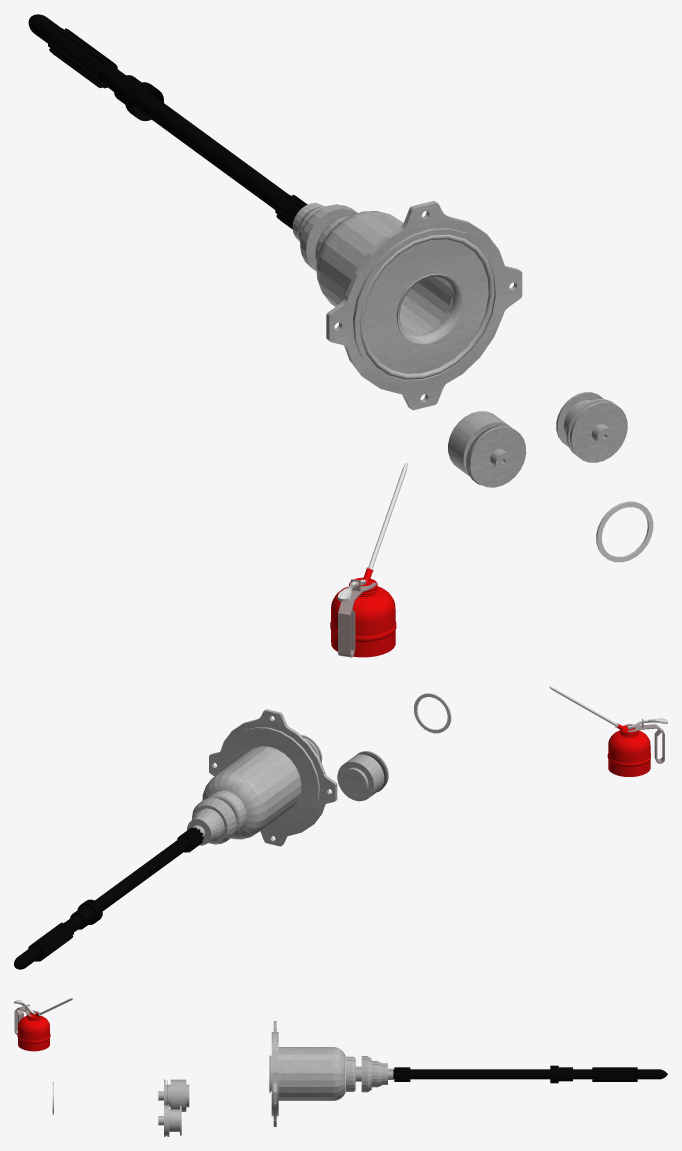
The picture shows the model from 3 angles, top to bottom: view 1: azimuth 30°, elevation 25°; view 2: azimuth 150°, elevation 25°; view 3: azimuth 270°, elevation 25°; orthographic projection. The views are drawn at different scales.
Visible parts, largest first — view 1: slongsong, Oiler, 3, 4, 1; view 2: slongsong, Oiler, 3, 1; view 3: slongsong, Oiler, 3, 4.
Boxes of the visible parts, <box> form: slongsong: <box>28,14,522,410</box>; Oiler: <box>330,462,407,657</box>; 3: <box>448,411,526,487</box>; 4: <box>556,392,627,462</box>; 1: <box>596,501,653,562</box>; slongsong: <box>14,709,337,969</box>; Oiler: <box>549,686,667,776</box>; 3: <box>337,751,388,801</box>; 1: <box>414,693,451,733</box>; slongsong: <box>269,1021,667,1126</box>; Oiler: <box>14,998,73,1051</box>; 3: <box>158,1079,189,1111</box>; 4: <box>158,1104,181,1136</box>.
Size of the model in its own units: 587 by 257 by 1511.
11 materials, 4 textured.
